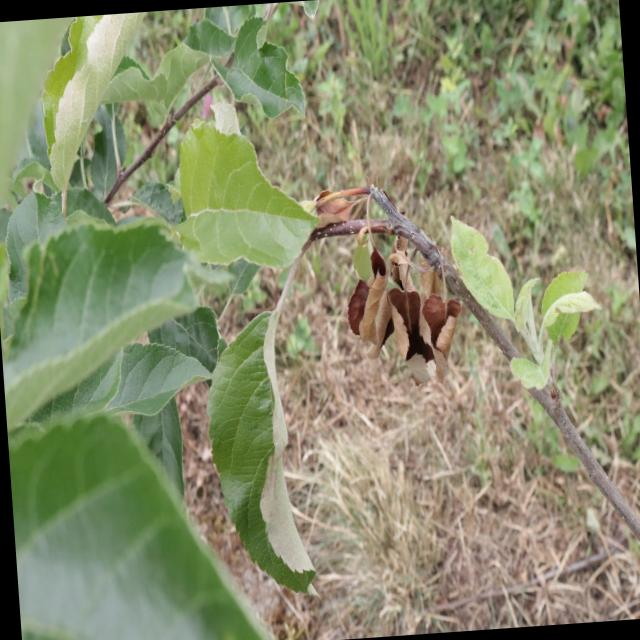-FireBlight-: (317, 178, 473, 387)
